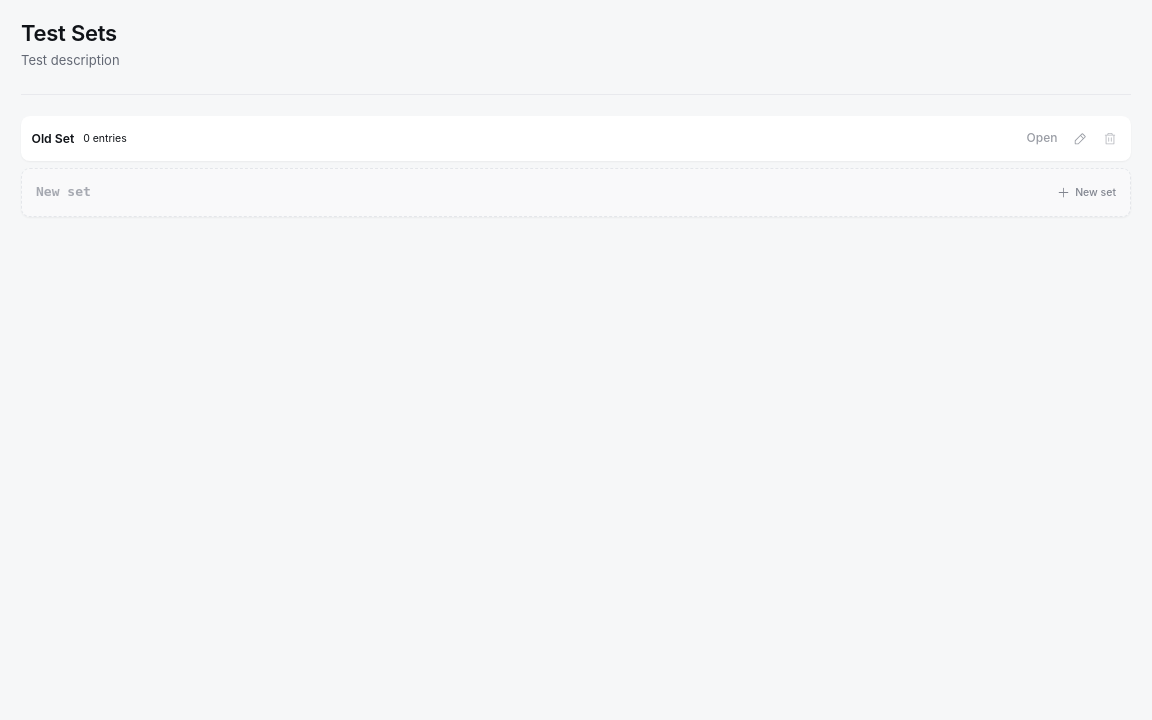
Test case: SetManagementPage – delete › confirm deletes the set
This screenshot has width=1152, height=720.
Step 1. Click the button named "Delete set" → (1110, 139), box [1096,125,1124,153]
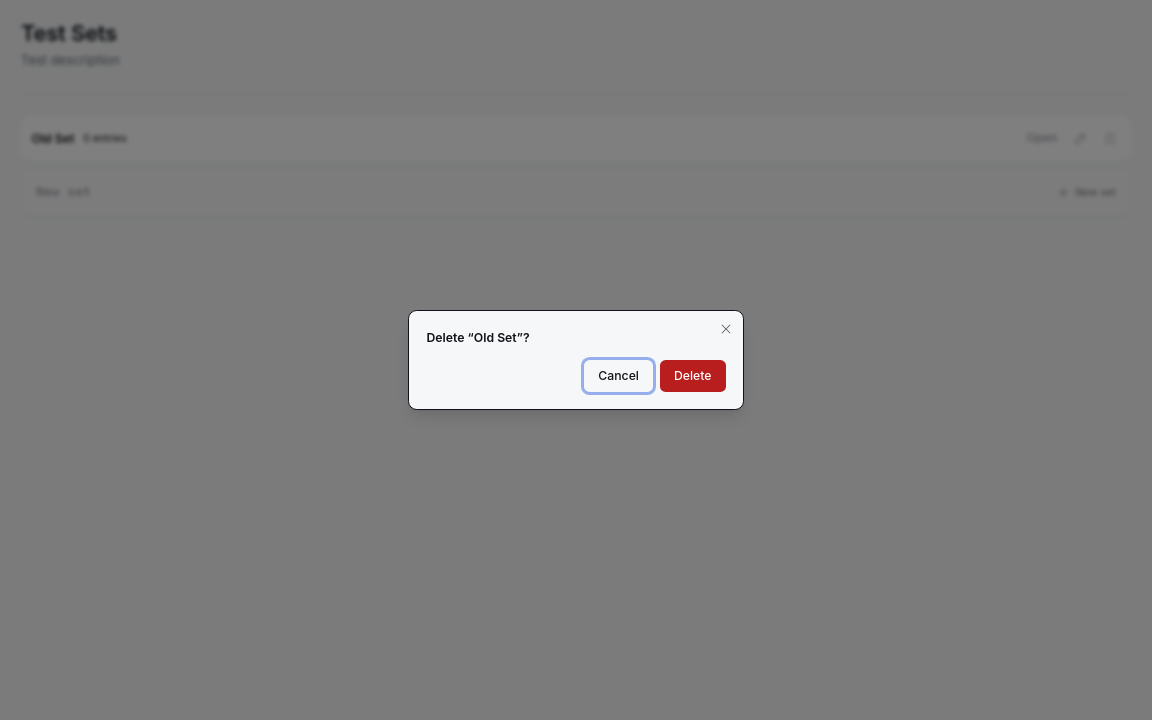
Step 2. Click the button "Delete" → (693, 376), box [660,360,726,392]
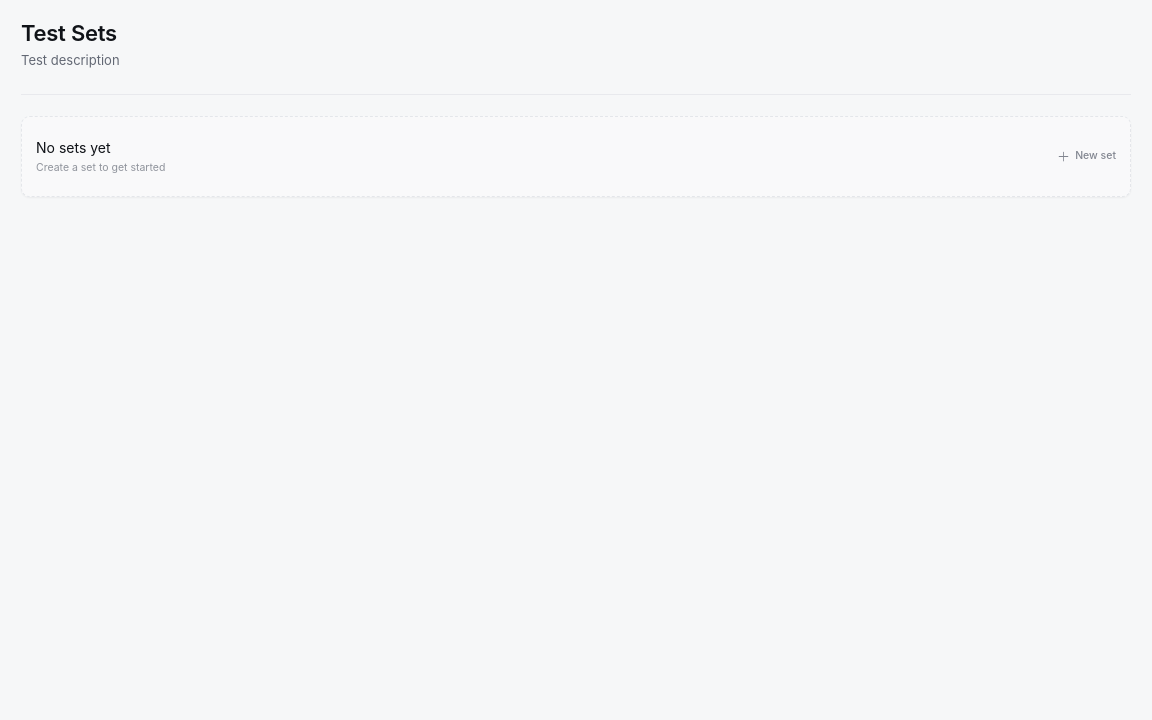
Check: the text "Old Set" is gone
